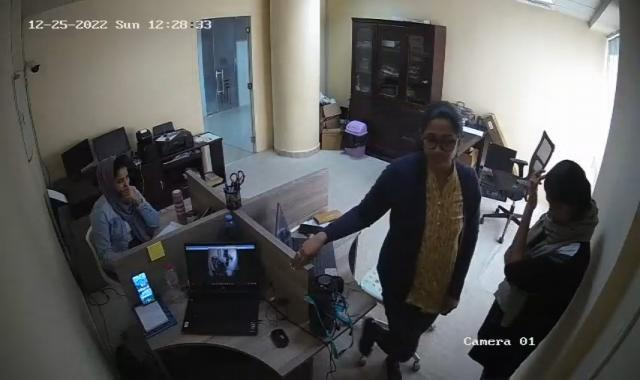no_hairnet: (544, 160, 588, 227), (419, 100, 463, 166), (98, 154, 134, 189)
